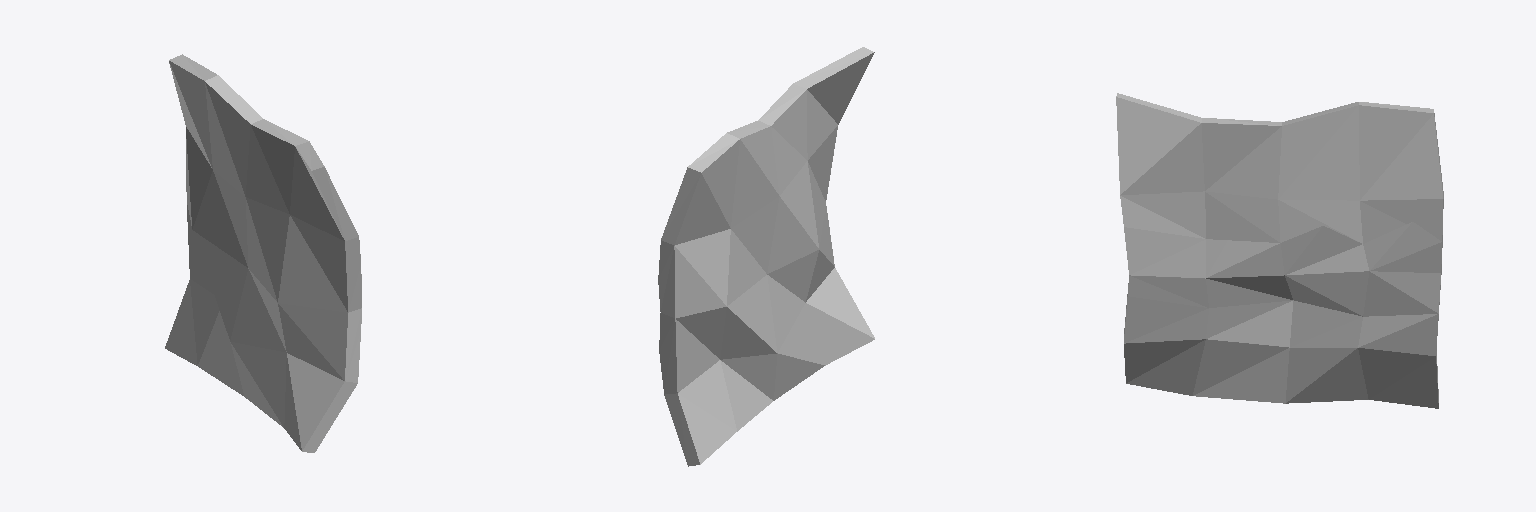
Rendered from Orca Gib Side.obj.
3 renders of one model, left to right at view 1: azimuth 30°, elevation 25°; view 2: azimuth 150°, elevation 25°; view 3: azimuth 270°, elevation 25°, orthographic.
Parts seen in each view (by area): view 1: Gib_Side; view 2: Gib_Side; view 3: Gib_Side.
Boxes of the visible parts, <box> form: Gib_Side: <box>165,54,361,452</box>; Gib_Side: <box>658,47,874,466</box>; Gib_Side: <box>1116,93,1443,408</box>.
Bounding box in the file's own units: 0.3461 × 1.64 × 1.59.